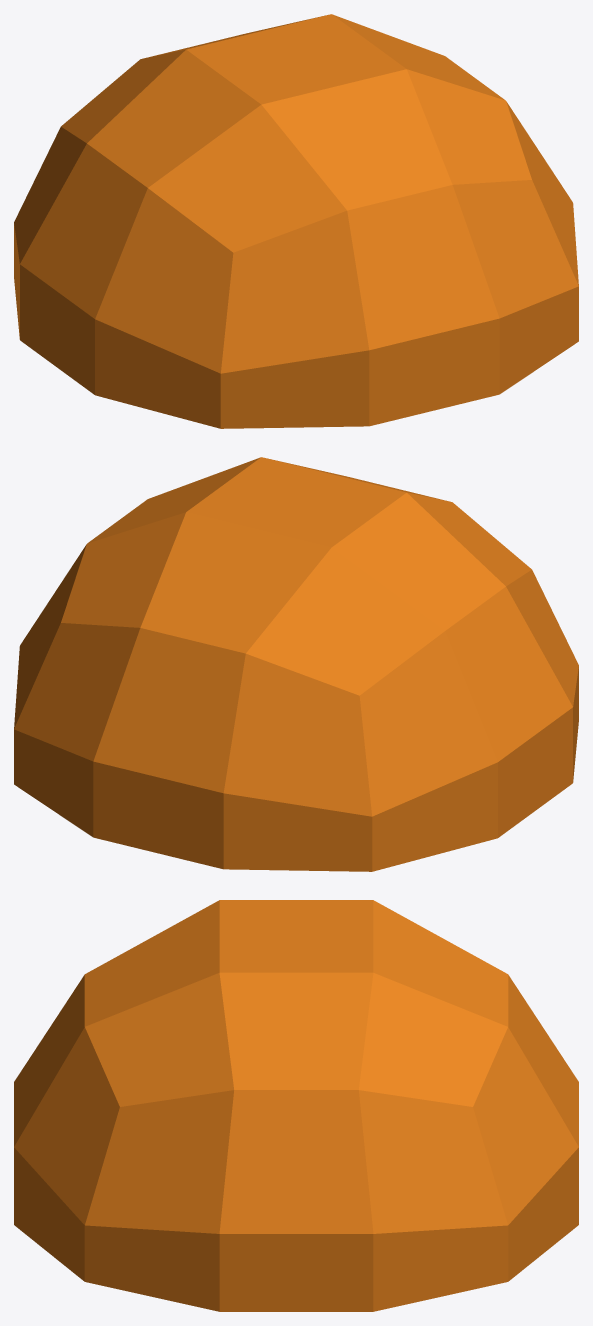
The model's file is Carrot.fbx.
3 views of the same model, one above another, from view 1: azimuth 30°, elevation 25°; view 2: azimuth 150°, elevation 25°; view 3: azimuth 270°, elevation 25° (orthographic). The views are drawn at different scales.
Visible parts, largest first — view 1: Carrot; view 2: Carrot; view 3: Carrot.
Boxes of the visible parts, bbox=[...] form: Carrot: bbox=[14, 14, 578, 428]; Carrot: bbox=[14, 457, 578, 871]; Carrot: bbox=[14, 900, 578, 1311].
Bounding box in the file's own units: 42.94 × 21.47 × 42.94.
